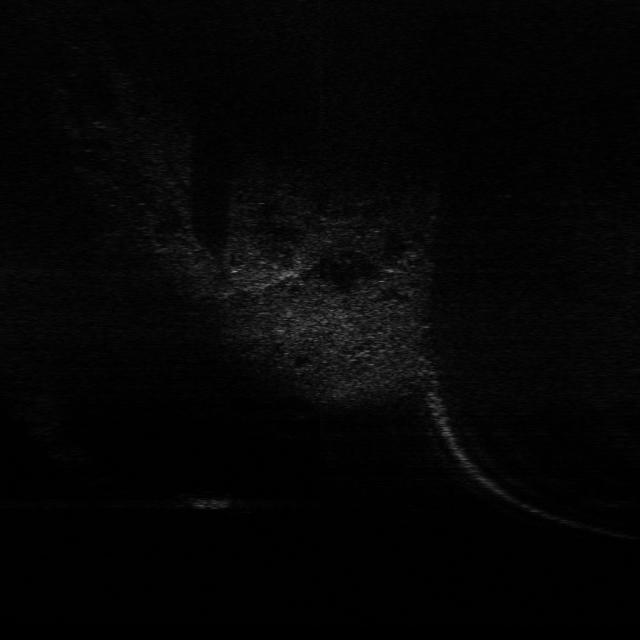cube: (176, 490, 236, 511)
